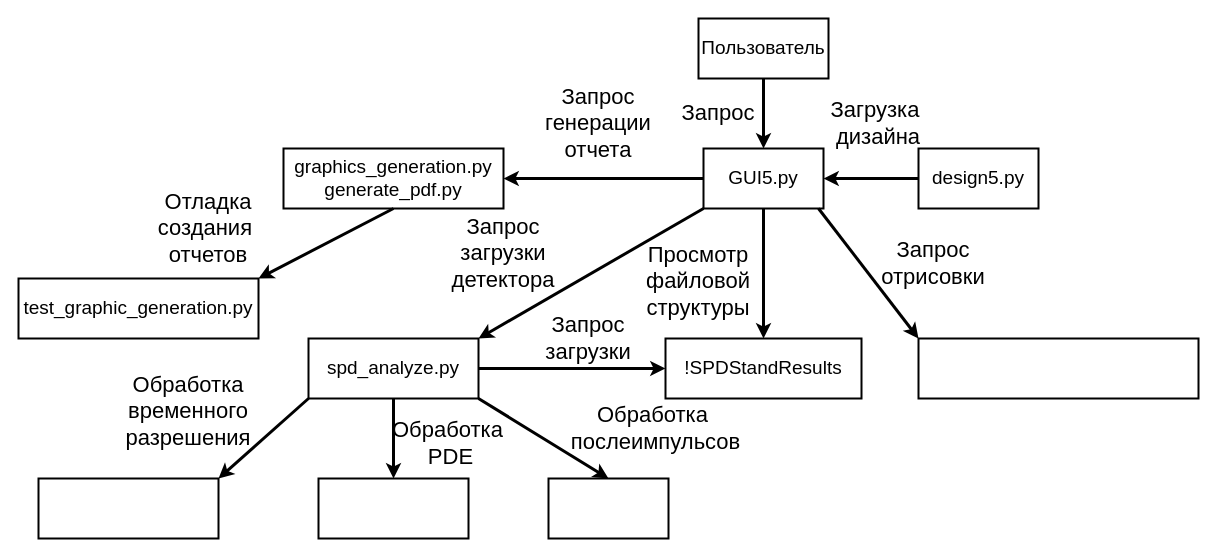
Some shapes in this 1216 by 556 pixel diagram are drawn without their labels. Each missing label, with the centre of its shape:
afterpulse.py: the point at 608,508
module_pde.py: the point at 393,508
threedsurfacegraphwindow.py twodgraphicwindow.py: the point at 1058,368
time_resolution.py module_fwhm.py: the point at 128,508
